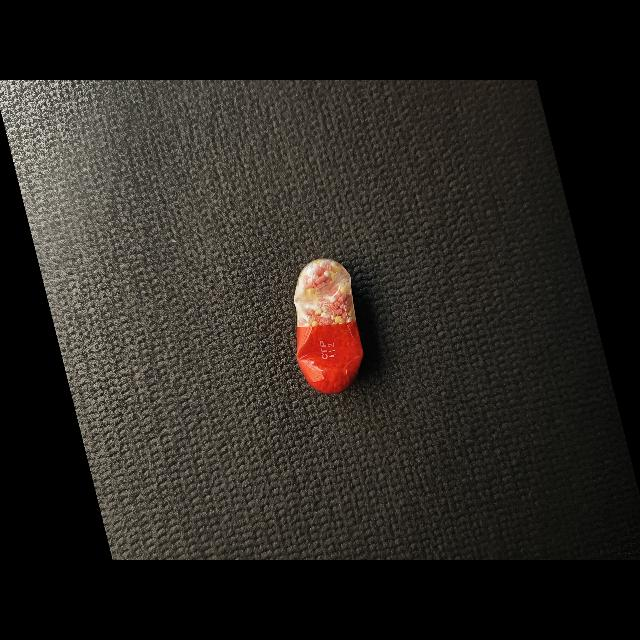Defective Capsule: (294, 258, 364, 394)
